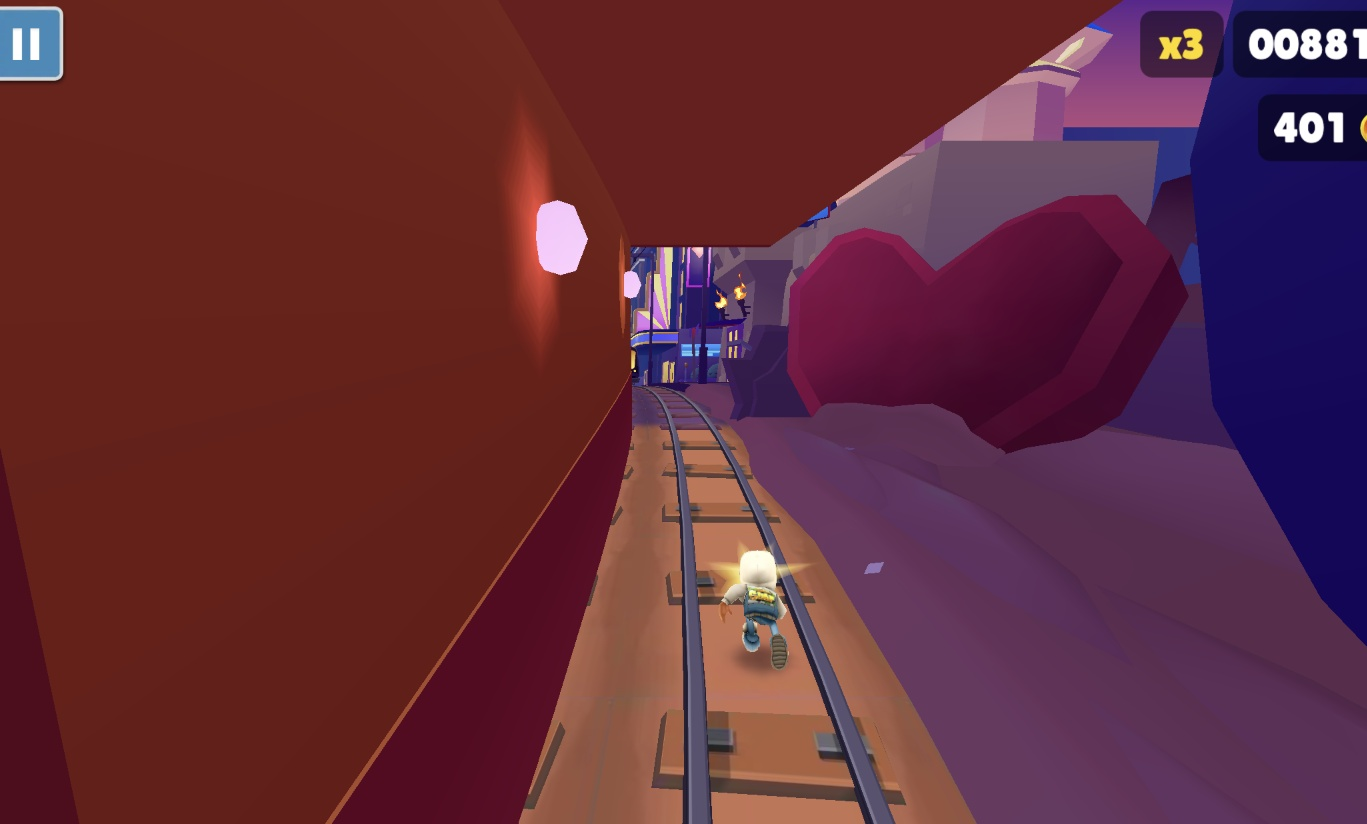pillar: (0, 0, 634, 824)
train: (629, 344, 643, 383)
